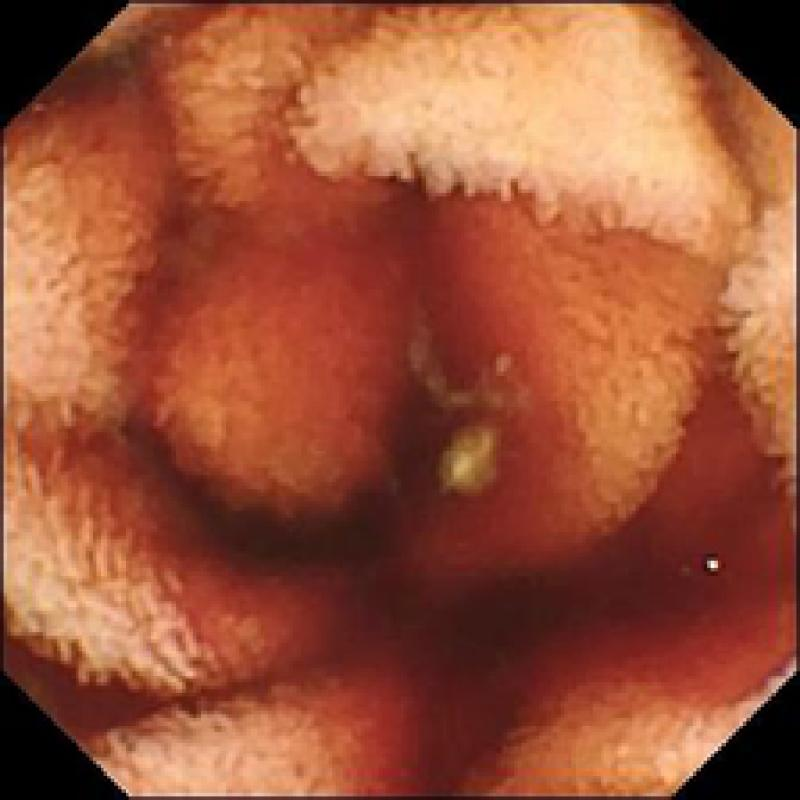bleeding: (76, 10, 800, 800)
